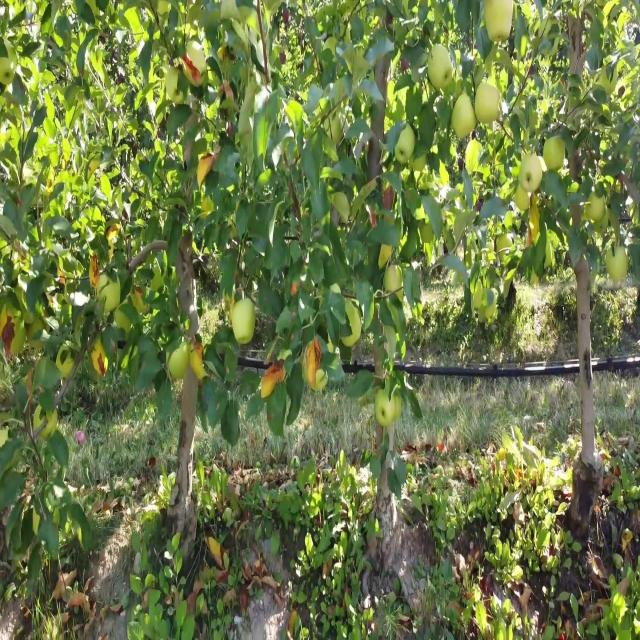apple: (428, 49, 460, 98), (484, 1, 516, 44), (476, 78, 502, 126), (428, 49, 454, 92), (452, 99, 476, 142), (232, 305, 256, 348), (376, 391, 400, 427), (544, 135, 566, 172), (608, 248, 629, 284), (340, 312, 361, 348), (524, 156, 544, 192), (192, 341, 207, 384), (168, 348, 188, 379), (308, 362, 328, 391), (216, 547, 232, 583), (184, 56, 201, 85), (92, 348, 108, 377), (516, 184, 531, 213), (200, 156, 215, 185), (528, 213, 540, 247), (468, 142, 480, 174), (588, 199, 605, 220), (92, 255, 101, 290), (496, 71, 508, 96), (4, 319, 16, 343), (264, 376, 277, 398), (380, 248, 392, 270), (392, 398, 403, 421), (384, 191, 396, 212), (108, 227, 120, 247), (512, 156, 522, 178), (604, 7, 612, 27), (488, 305, 496, 324), (292, 284, 301, 299), (4, 312, 9, 325)
